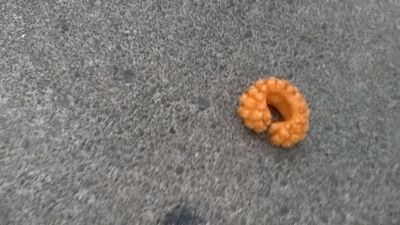eggs: (235, 75, 311, 149)
